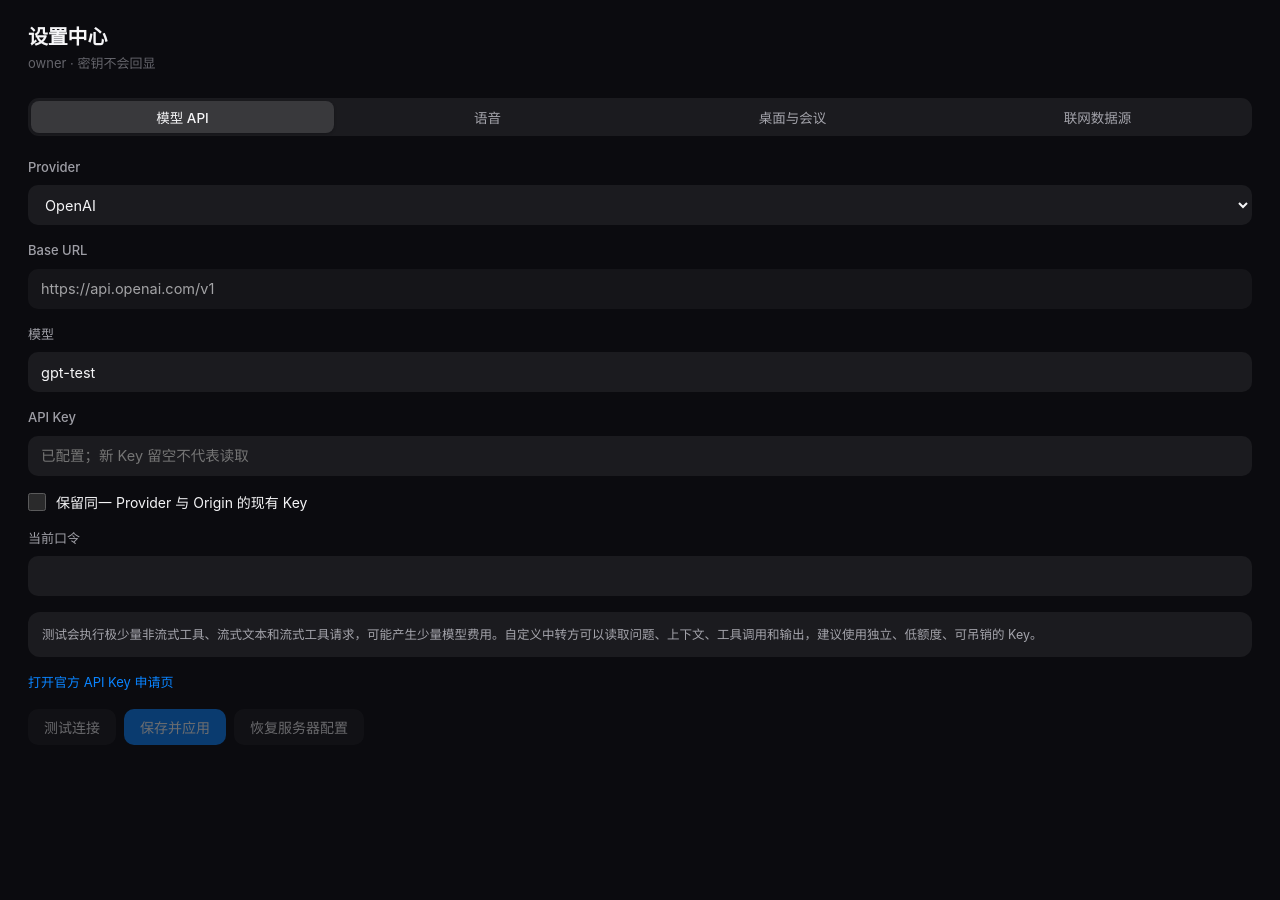
it: provider settings › only offers keep-existing for the same provider origin and shows integrations to Owners
expect the text "保留同一 Provider 与 Origin 的现有 Key" is shown: met, box [28, 493, 307, 511]
Select "自定义中转" in the dropdown labelled "Provider": (640, 205) [28, 185, 1252, 225]
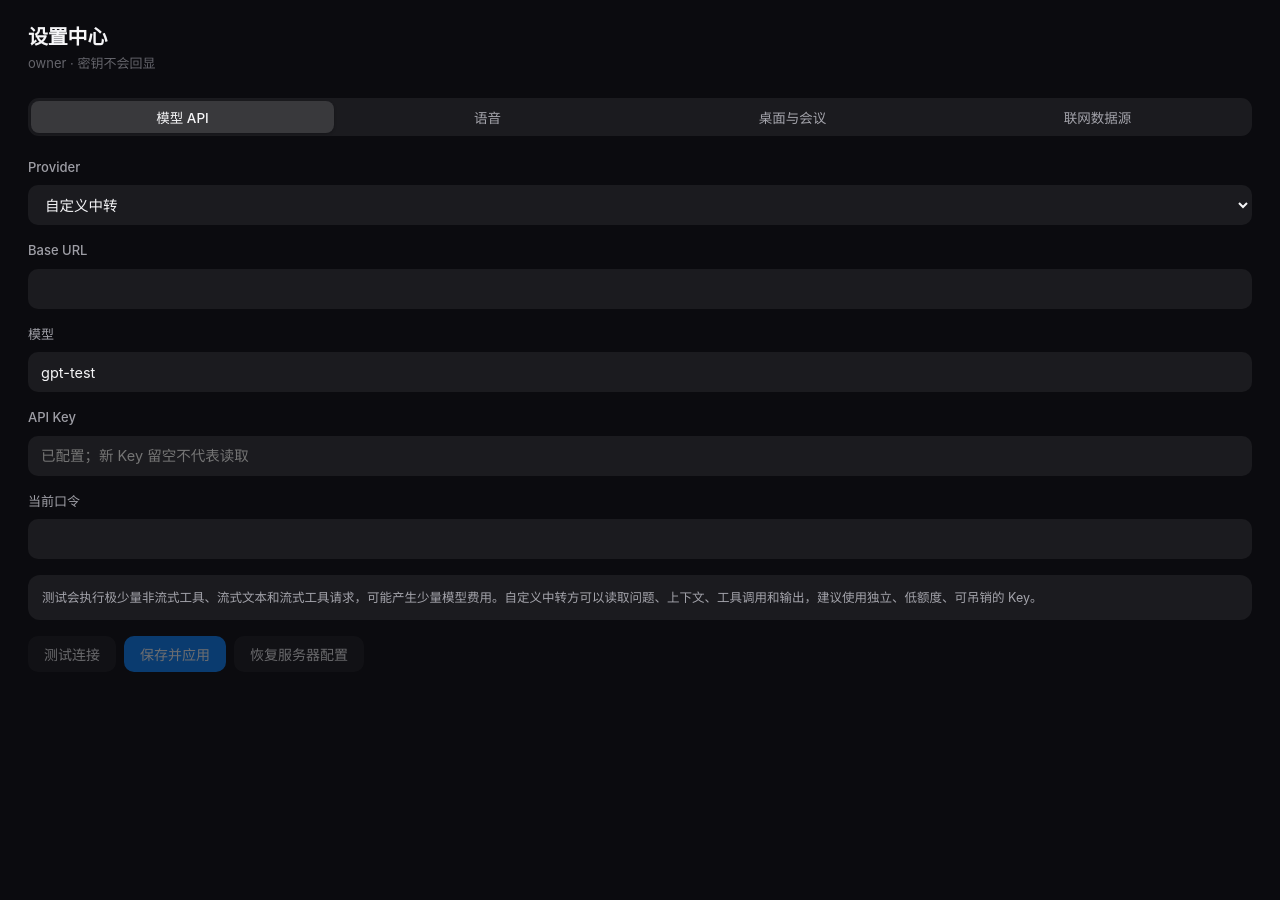
expect the tab "联网数据源" is shown: met, box [946, 100, 1249, 132]
expect the text "保留同一 Provider 与 Origin 的现有 Key" is gone: met
